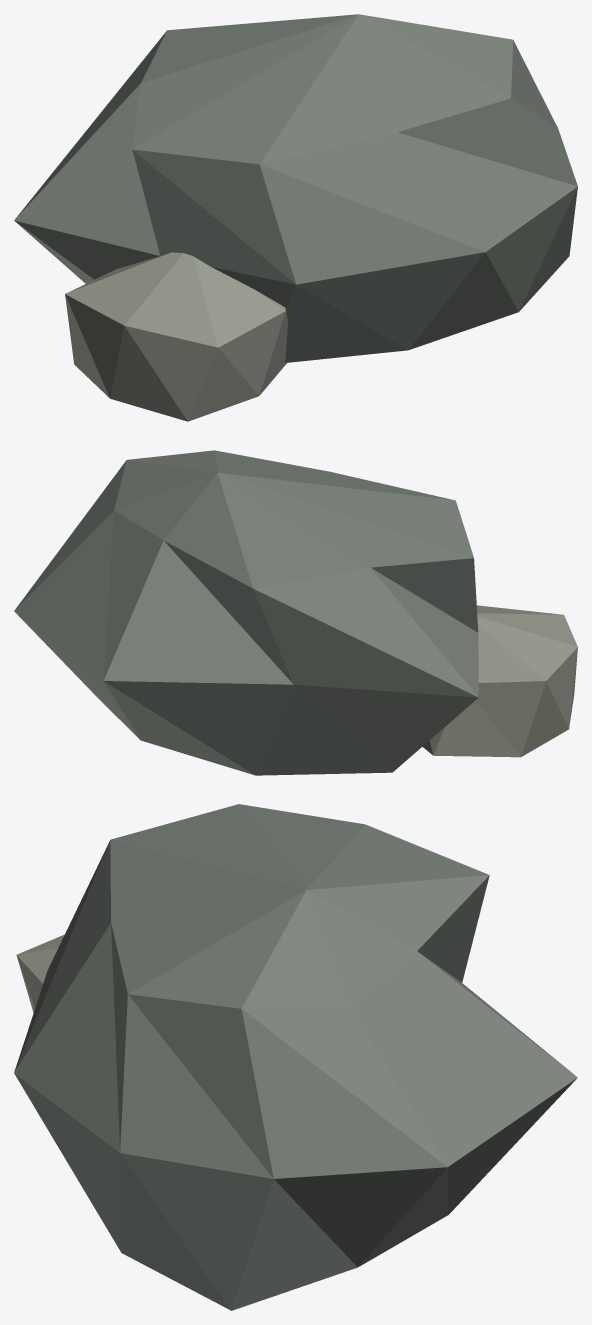
The model's file is CoastalRock.glb.
3 views of the same model, one above another, from view 1: azimuth 30°, elevation 25°; view 2: azimuth 150°, elevation 25°; view 3: azimuth 270°, elevation 25° (orthographic). The views are drawn at different scales.
Visible parts, largest first — view 1: CoastalRock_rock, CoastalRock_rockLight; view 2: CoastalRock_rock, CoastalRock_rockLight; view 3: CoastalRock_rock, CoastalRock_rockLight.
Boxes of the visible parts, x1=… form: CoastalRock_rock: x1=14, y1=14, x2=577, y2=362; CoastalRock_rockLight: x1=65, y1=252, x2=287, y2=421; CoastalRock_rock: x1=14, y1=450, x2=478, y2=775; CoastalRock_rockLight: x1=422, y1=605, x2=577, y2=757; CoastalRock_rock: x1=14, y1=804, x2=577, y2=1310; CoastalRock_rockLight: x1=16, y1=934, x2=64, y2=1012.
Bounding box in the file's own units: 9.69 × 5.4 × 7.67.
Materials: 2 (2 with a texture image).
